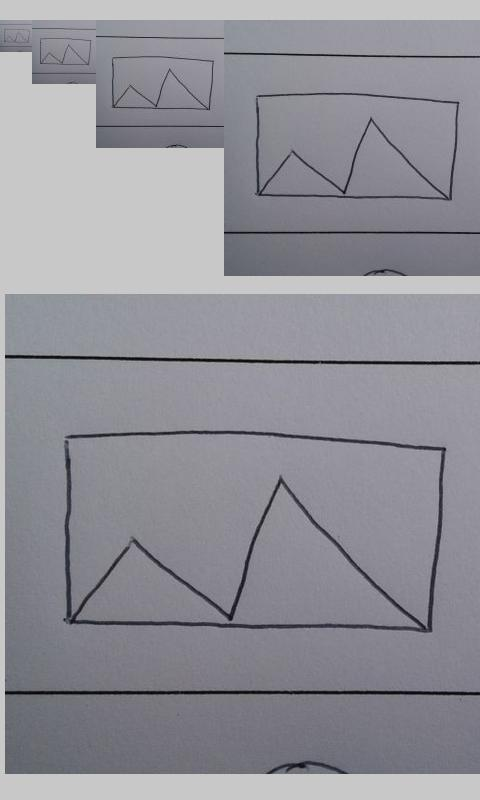image_view: (62, 428, 448, 637), (253, 91, 461, 202), (111, 55, 215, 111), (39, 37, 91, 66), (3, 28, 30, 44)
